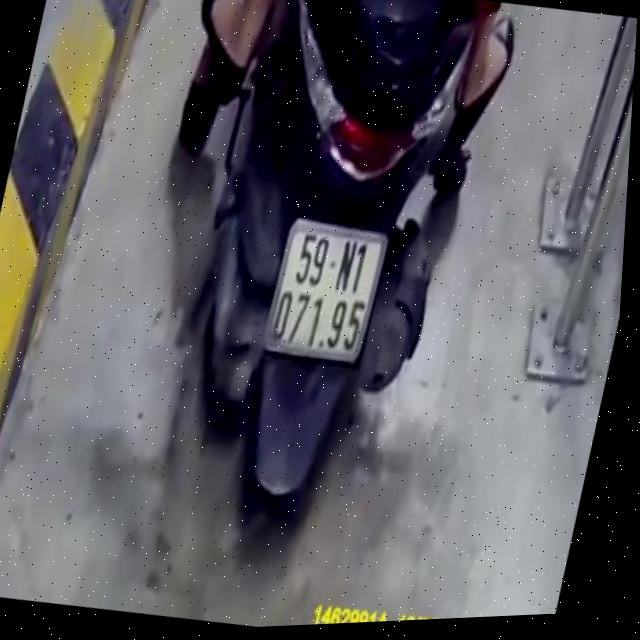motorcycle: (128, 0, 511, 576)
plate: (255, 208, 392, 366)
